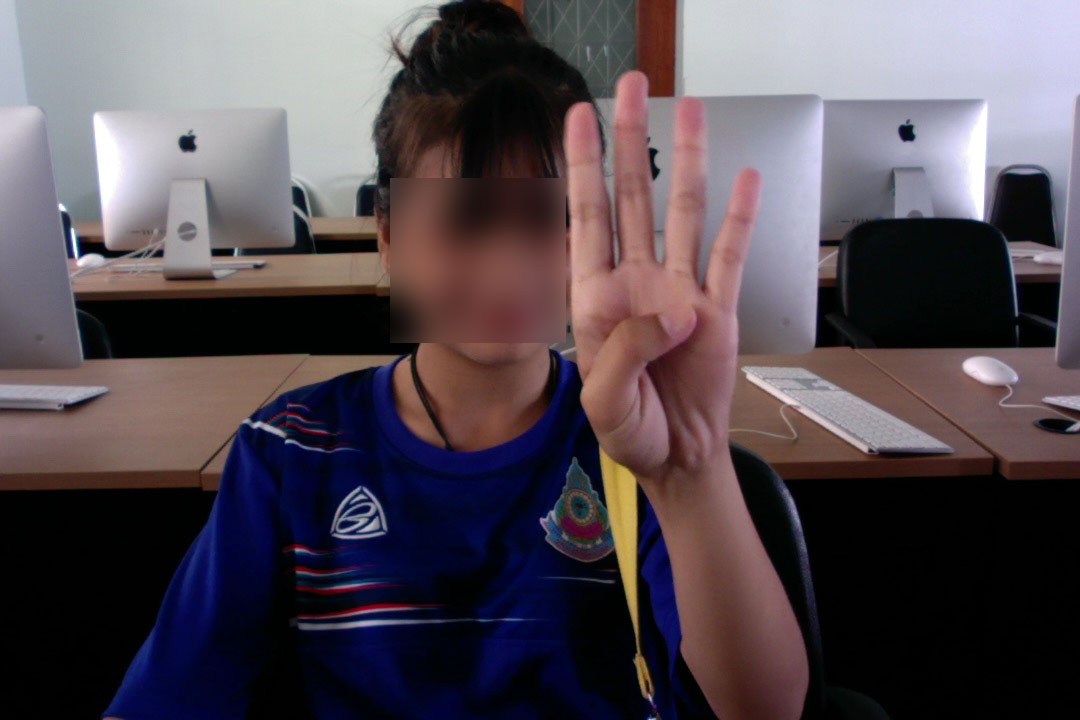bor: (557, 63, 772, 485)
